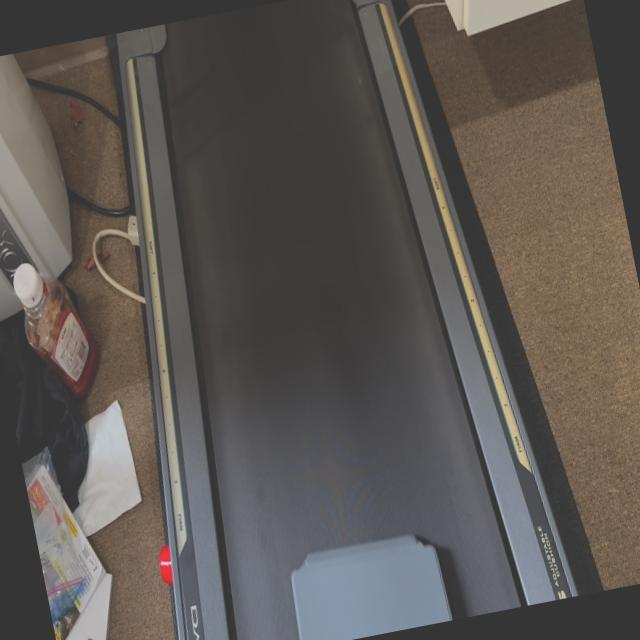Trash: (279, 521, 459, 640)
